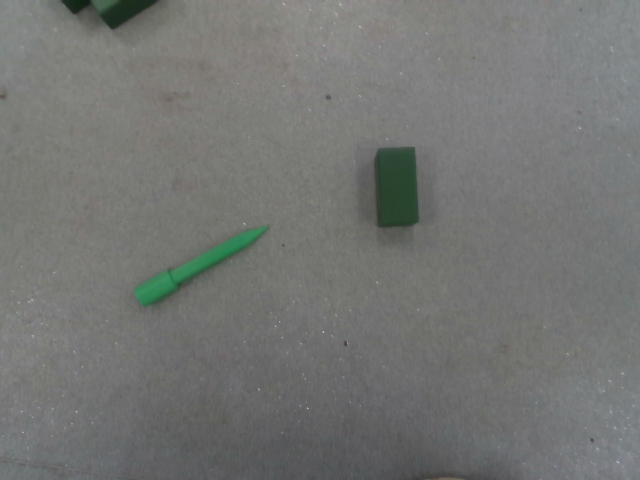Probe: (130, 221, 273, 309)
